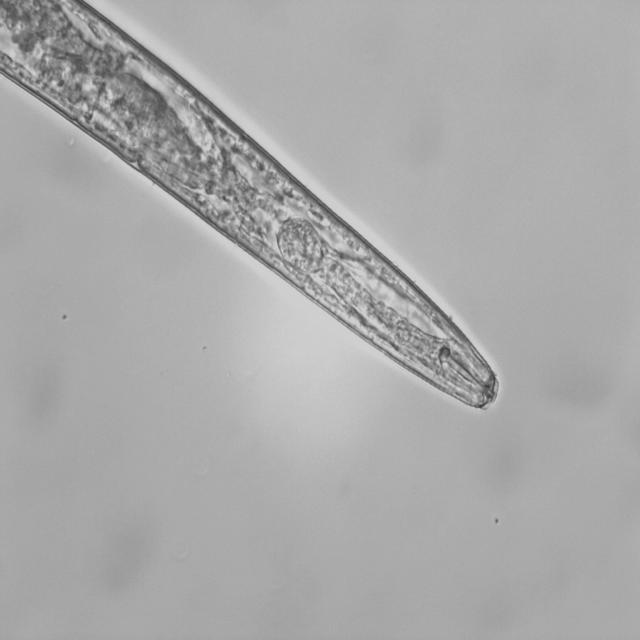Pratylenchus: (0, 0, 507, 422)
